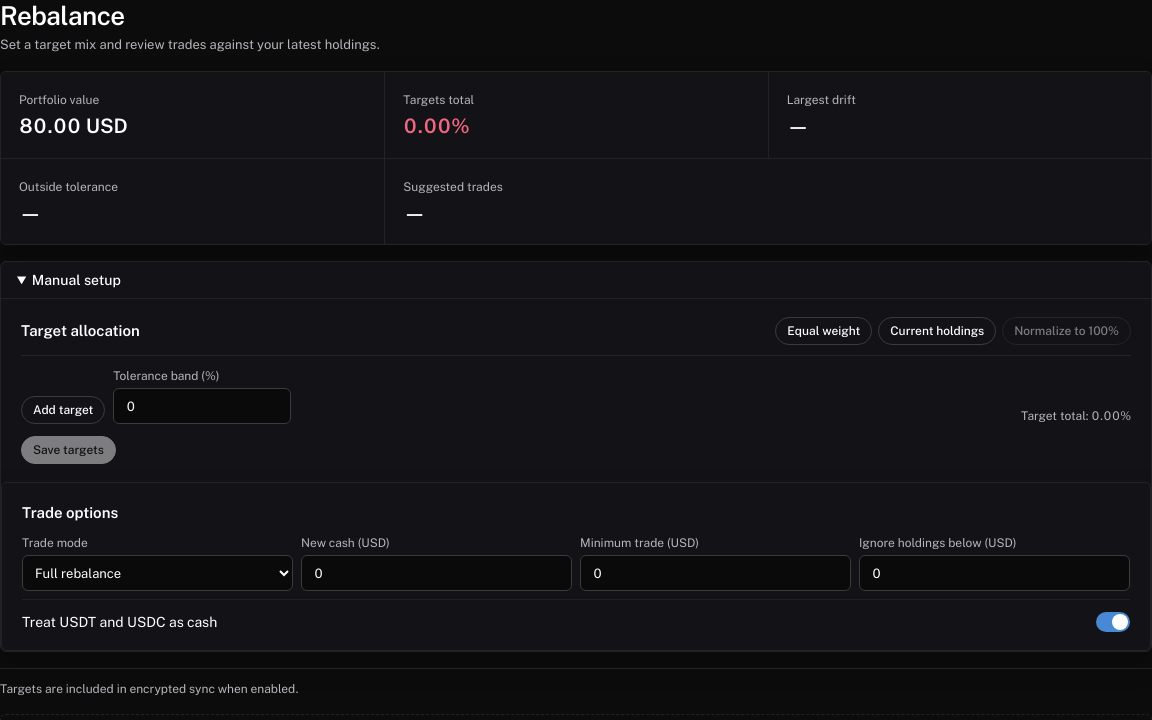
it: Rebalance page › blocks a target draft that does not sum to 100%
The image size is (1152, 720).
Click the button "Equal weight" at (824, 331), box [775,317,872,345]
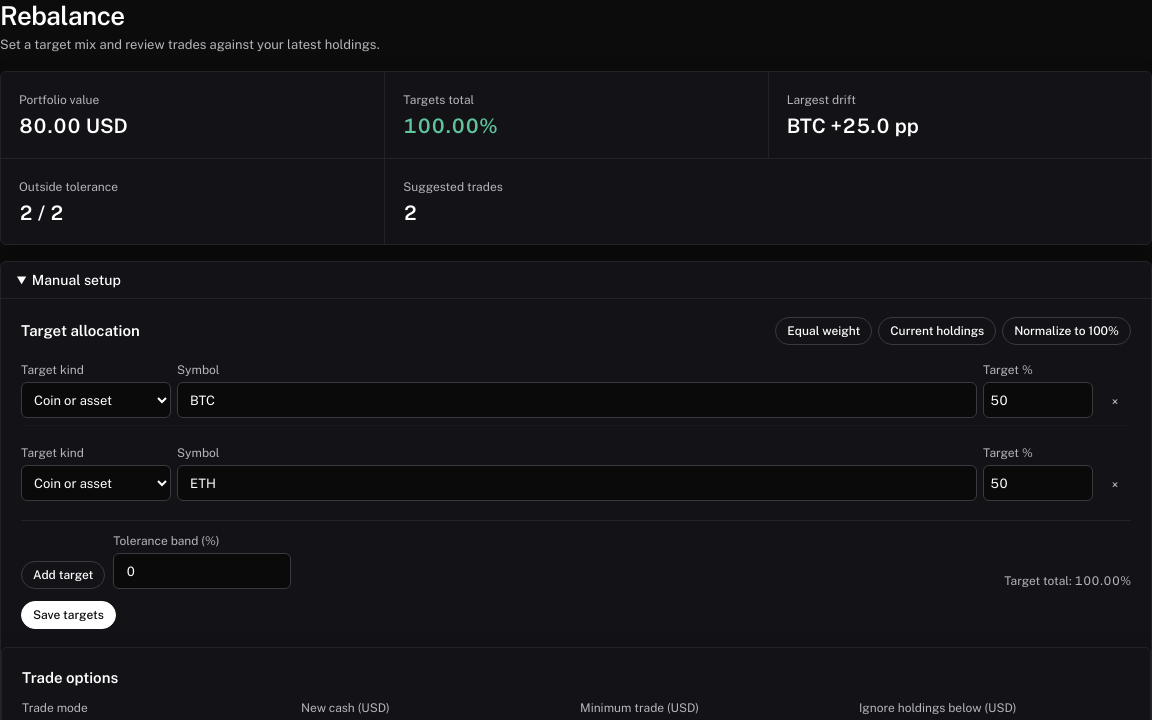
Replace the text in the number field named "Target percentage for BTC" with "40" at (1038, 400), box [983,382,1093,418]
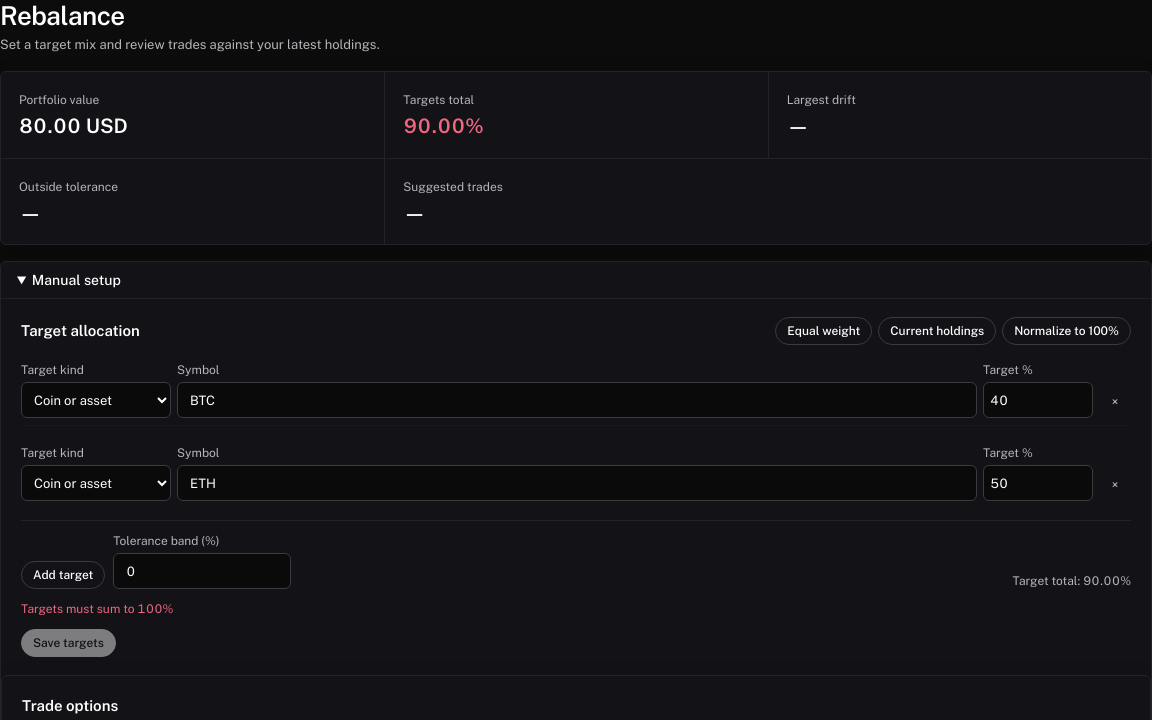
Check: the element with test id "rebalance-summary" shows "80.00 USD", box [19,114,128,138]
Check: the message reads "Targets must sum to 100%", box [21,602,173,616]
Check: the button "Save targets" is disabled, box [21,629,116,657]
Click the button "Normalize to 100%" at (1067, 331), box [1002,317,1131,345]
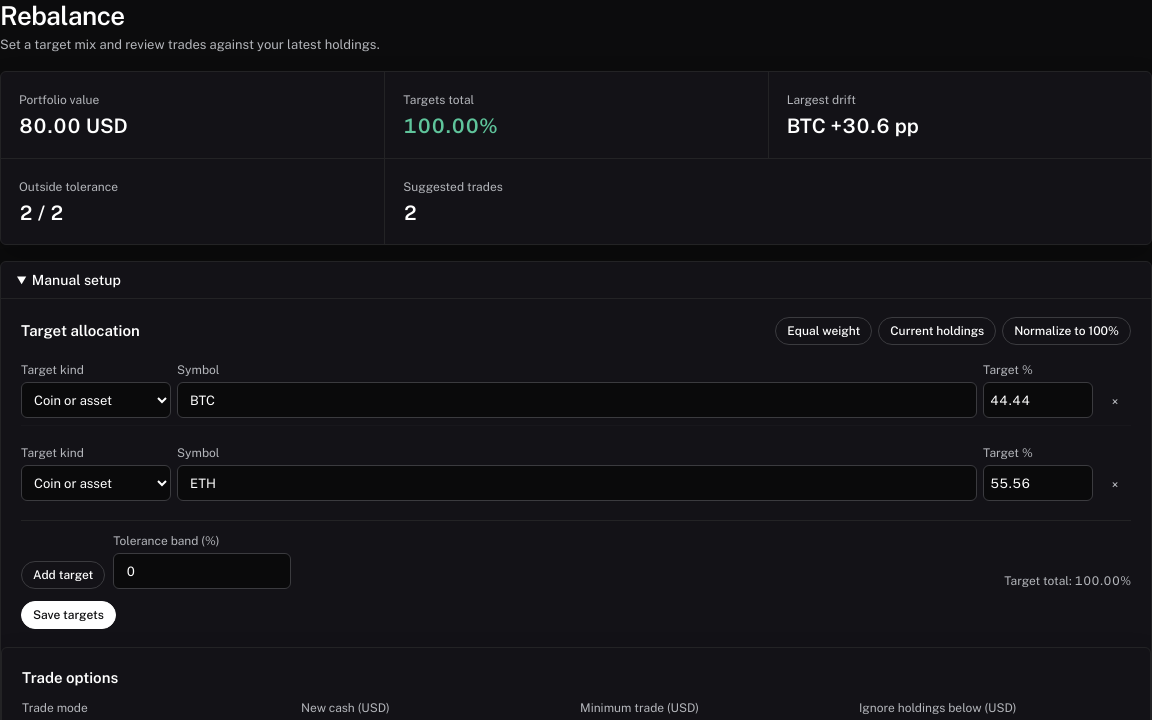
Check: the message "Targets must sum to 100%" is gone
